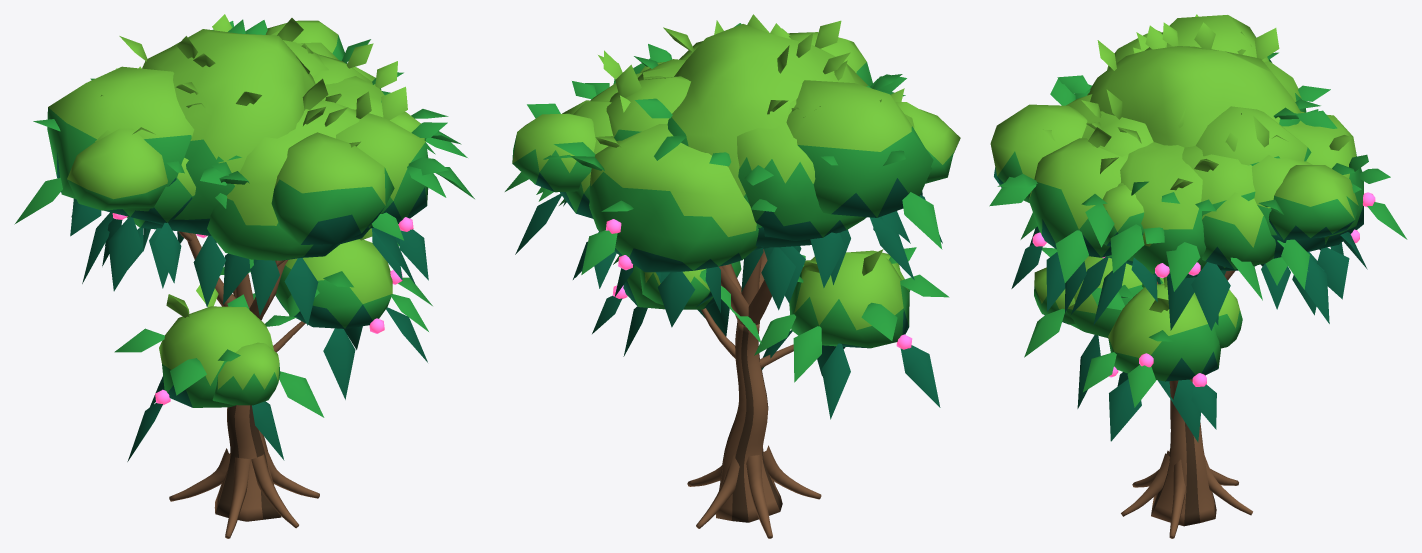
The model's file is tree_broadleaf_a.glb.
The picture shows the model from 3 angles, left to right: view 1: azimuth 30°, elevation 25°; view 2: azimuth 150°, elevation 25°; view 3: azimuth 270°, elevation 25°; orthographic projection. The views are drawn at different scales.
Visible parts, largest first — view 1: tree_broadleaf_a_mesh; view 2: tree_broadleaf_a_mesh; view 3: tree_broadleaf_a_mesh.
Boxes of the visible parts, x1=… form: tree_broadleaf_a_mesh: x1=14, y1=14, x2=474, y2=538; tree_broadleaf_a_mesh: x1=505, y1=14, x2=960, y2=538; tree_broadleaf_a_mesh: x1=989, y1=14, x2=1407, y2=538.
Bounding box in the file's own units: 8.32 × 9.65 × 7.87.
